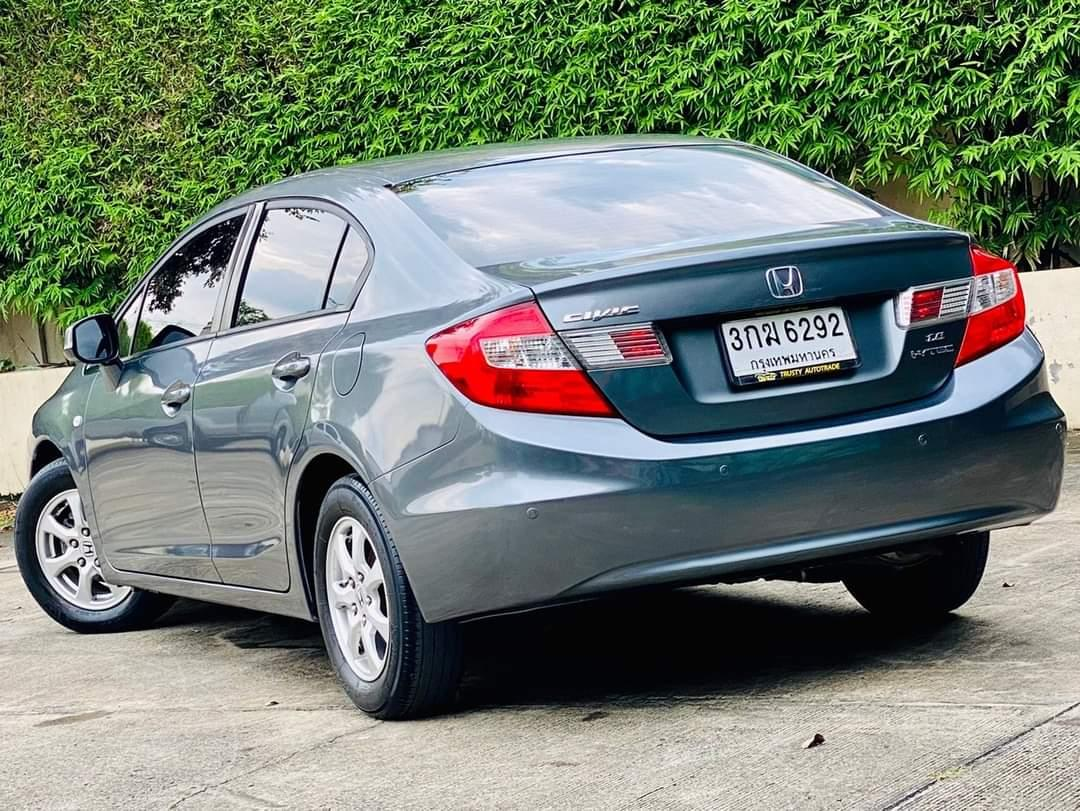license-plate: (709, 302, 869, 394)
